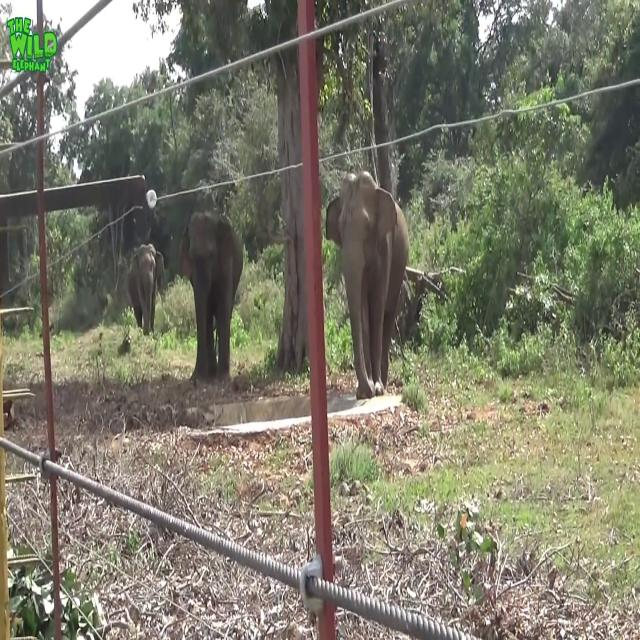Elephant: (325, 170, 410, 399), (179, 209, 243, 384), (126, 243, 165, 335)
